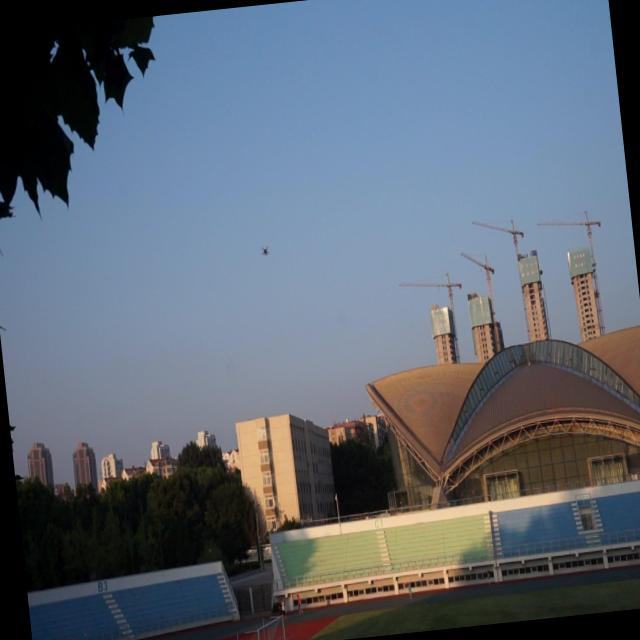drone: (259, 239, 272, 260)
